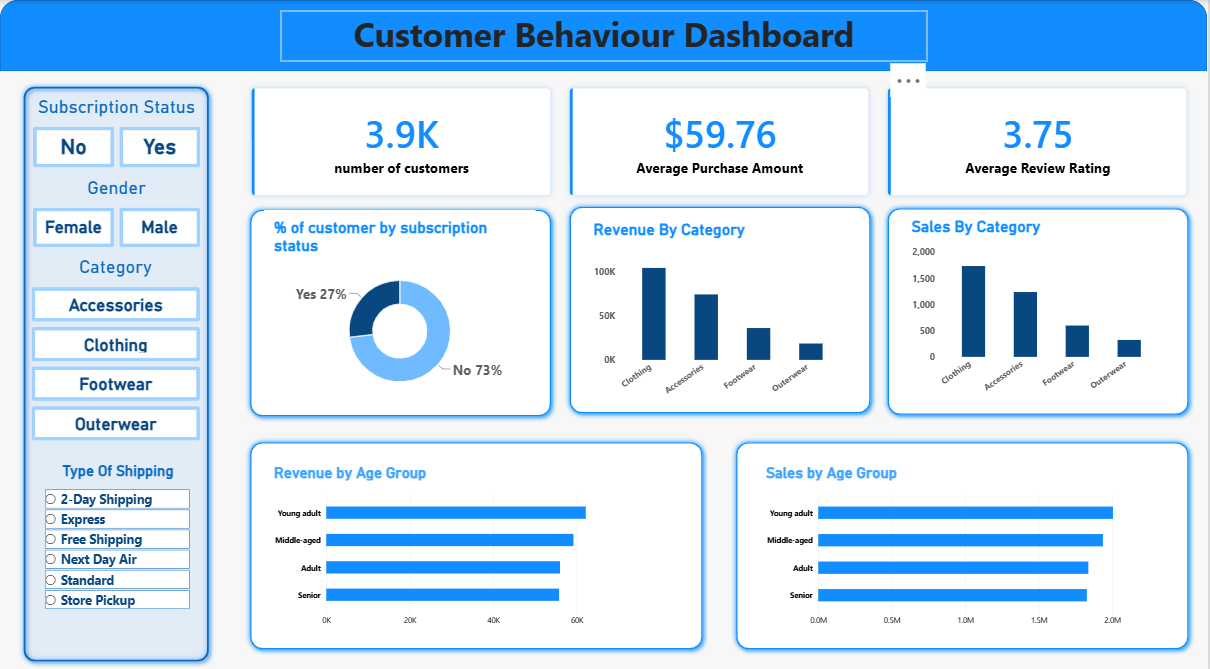

This screenshot's page, from the dashboard's own definition file:
{"tool":"powerbi","page":{"name":"Page 1","canvas":[1920,1080],"ordinal":0},"visuals":[{"type":"cardVisual","fields":{"Data":["public customer.number of customers","public customer.Average Purchase Amount","public customer.Average Review Rating"]},"box":[390,130,1510,193.3],"z":0},{"type":"shape","box":[0,0,1920,113.3],"z":1000},{"type":"textbox","box":[445,17.5,1028.3,80],"z":2000},{"type":"shape","box":[390,323.3,496.7,346.7],"z":3000},{"type":"donutChart","title":"% of customer by subscription status","fields":{"Category":["public customer.subscription_status"],"Y":["CountNonNull(public customer.customer_id)"]},"box":[420,335,432,314],"z":4000},{"type":"shape","box":[1402.5,322.5,496.7,346.7],"z":5000},{"type":"shape","box":[897.5,320,496.7,346.7],"z":6000},{"type":"clusteredColumnChart","title":"Revenue By Category","fields":{"Category":["public customer.category"],"Y":["Sum(public customer.purchase_amount)"]},"box":[927.5,337.5,434,322],"z":7000},{"type":"clusteredColumnChart","title":"Sales By Category","fields":{"Category":["public customer.category"],"Y":["CountNonNull(public customer.customer_id)"]},"box":[1435,331.7,434,322],"z":8000},{"type":"shape","box":[27.5,130,312.5,932.5],"z":9000},{"type":"advancedSlicerVisual","title":"Subscription Status","fields":{"Values":["public customer.subscription_status"]},"box":[52,152,266,114],"z":10000},{"type":"advancedSlicerVisual","title":"Gender","fields":{"Values":["public customer.gender"]},"box":[51.4,281.4,266,112],"z":11000},{"type":"advancedSlicerVisual","title":"Category","fields":{"Values":["public customer.category"]},"box":[50,407.1,268,296],"z":12000},{"type":"listSlicer","title":"Type Of Shipping","fields":{"Values":["public customer.shipping_type"]},"box":[54.3,721.4,264.3,282.9],"z":13000},{"type":"shape","box":[390,695,737.5,347.5],"z":14000},{"type":"clusteredBarChart","title":"Revenue by Age Group","fields":{"Category":["public customer.age_group"],"Y":["Sum(public customer.purchase_amount)"]},"box":[420,722.5,590,292.5],"z":15000},{"type":"shape","box":[1162.5,695,737.5,347.5],"z":16000},{"type":"clusteredBarChart","title":"Sales by Age Group","fields":{"Category":["public customer.age_group"],"Y":["Sum(public customer.customer_id)"]},"box":[1203.3,723.3,643.3,293.3],"z":16001}]}

Visuals, with their boxes in screenshot pixels (x1, y1, x2, y2), scaled from the page's 1920x1080 canvas onto the 1210x669 screenshot:
cardVisual - public customer.number of customers x public customer.Average Purchase Amount: (246, 81, 1197, 200)
shape: (0, 0, 1209, 70)
textbox: (280, 11, 928, 60)
shape: (246, 200, 559, 415)
"% of customer by subscription status" donutChart: (265, 208, 537, 402)
shape: (884, 200, 1197, 415)
shape: (566, 198, 879, 413)
"Revenue By Category" clusteredColumnChart: (585, 209, 858, 409)
"Sales By Category" clusteredColumnChart: (904, 205, 1178, 405)
shape: (17, 81, 214, 658)
"Subscription Status" advancedSlicerVisual: (33, 94, 200, 165)
"Gender" advancedSlicerVisual: (32, 174, 200, 244)
"Category" advancedSlicerVisual: (32, 252, 200, 436)
"Type Of Shipping" listSlicer: (34, 447, 201, 622)
shape: (246, 431, 711, 646)
"Revenue by Age Group" clusteredBarChart: (265, 448, 637, 629)
shape: (733, 431, 1197, 646)
"Sales by Age Group" clusteredBarChart: (758, 448, 1164, 630)
